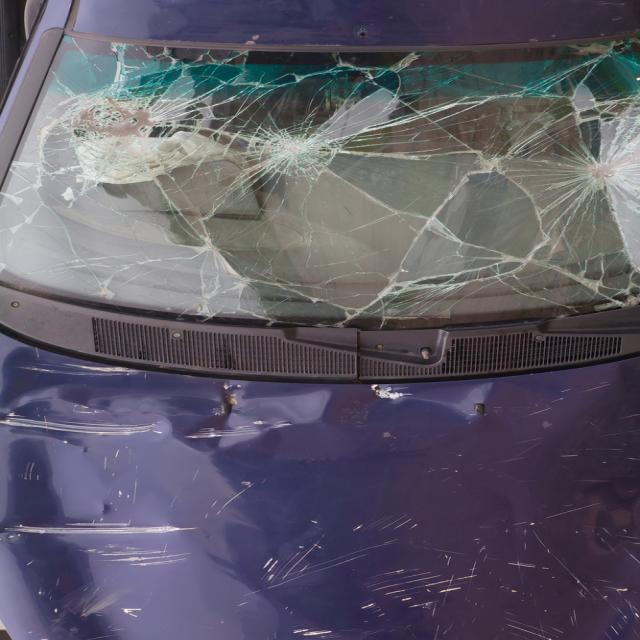dent: (0, 344, 489, 640)
glass shatter: (0, 36, 640, 331)
scratch: (258, 381, 640, 640)
